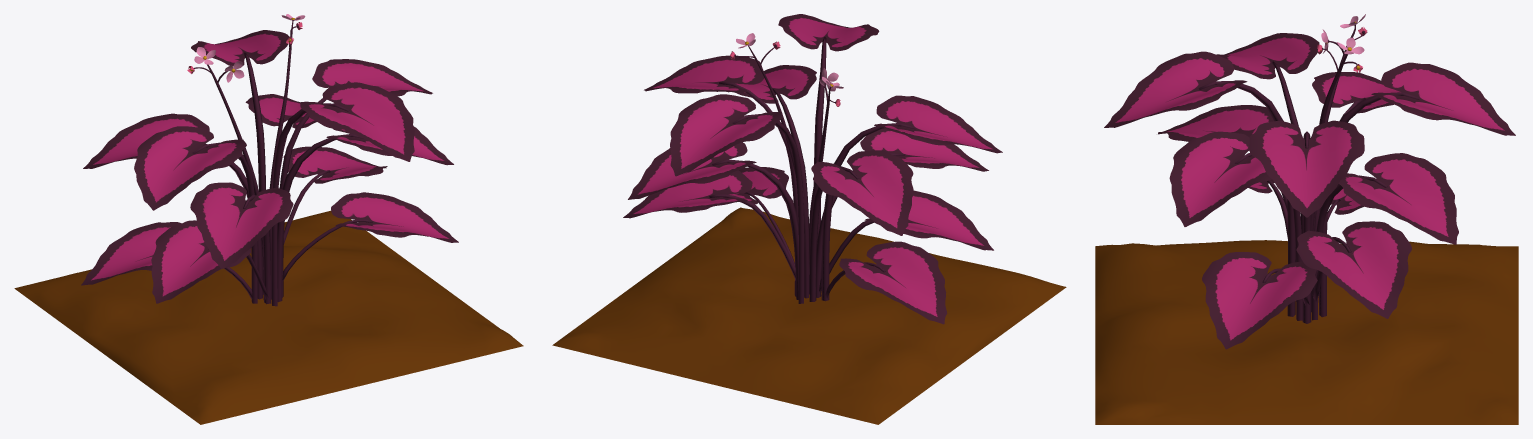
The model's file is begonia-rex-p3-bloom.glb.
3 renders of one model, left to right at view 1: azimuth 30°, elevation 25°; view 2: azimuth 150°, elevation 25°; view 3: azimuth 270°, elevation 25°, orthographic. The views are drawn at different scales.
Visible parts, largest first — view 1: 3_nft_bloom; view 2: 3_nft_bloom; view 3: 3_nft_bloom.
Part boxes in pixels (left/top/right/bottom): 3_nft_bloom: left=14, top=14, right=523, bottom=424; 3_nft_bloom: left=552, top=14, right=1066, bottom=424; 3_nft_bloom: left=1095, top=14, right=1518, bottom=424.
Size of the model in its own units: 0.7056 by 0.5785 by 0.7.
7 materials, 1 textured.
